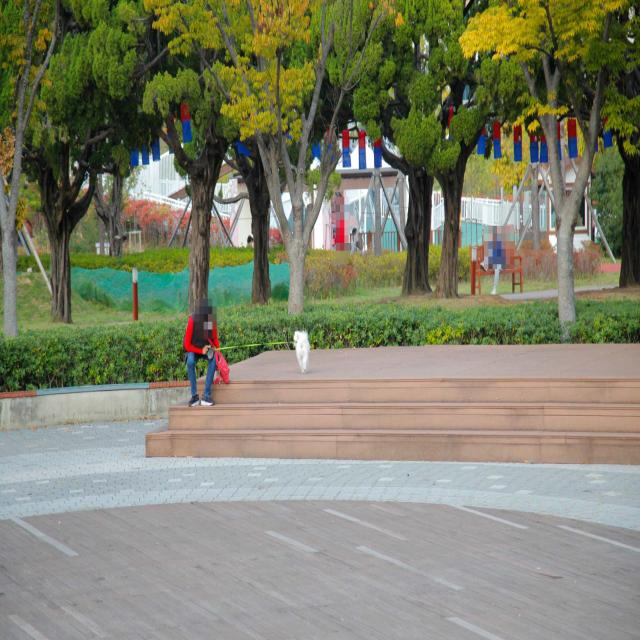Leashed_Dog: (208, 328, 310, 374)
